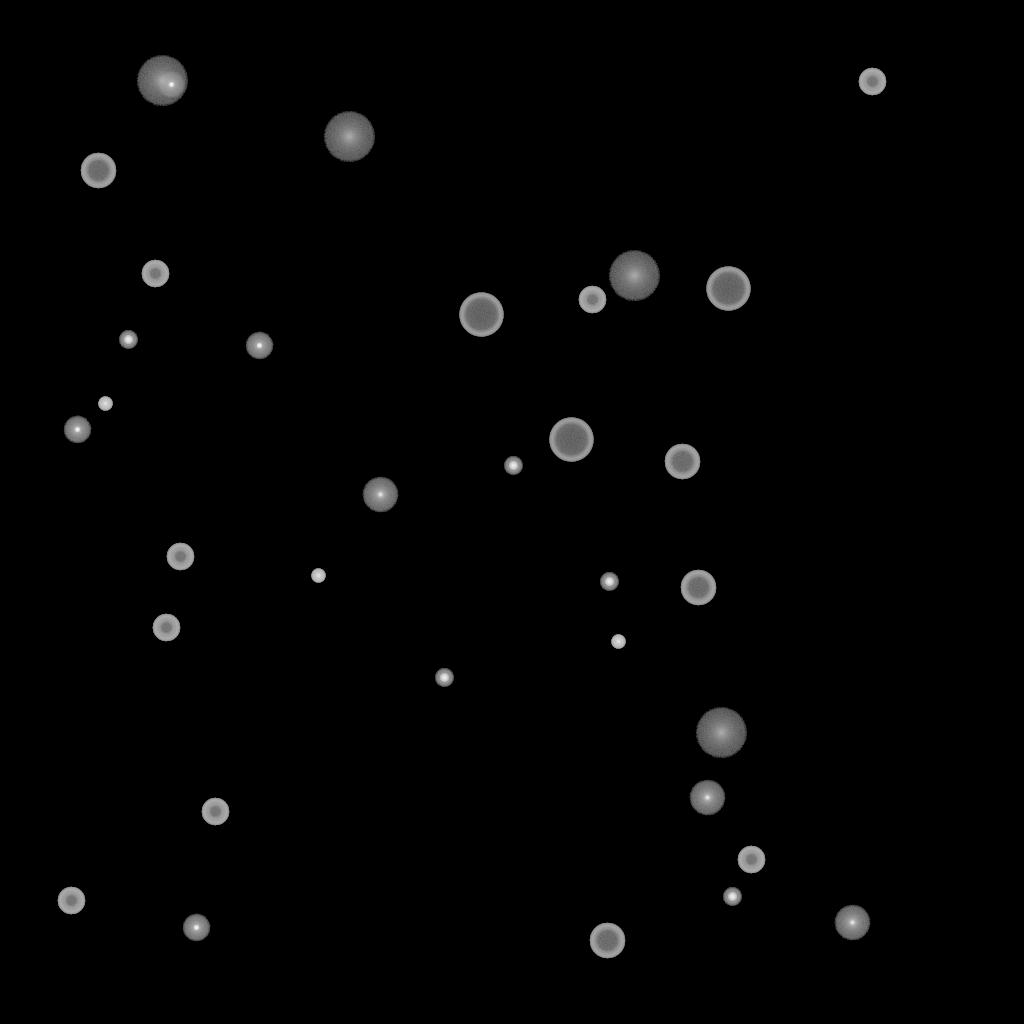depth:-10: (182, 914, 210, 942), (157, 71, 185, 99), (245, 332, 273, 360), (63, 416, 91, 444)
depth:-20: (600, 573, 618, 591), (119, 331, 137, 349), (723, 888, 741, 906), (435, 669, 453, 687), (504, 457, 522, 475)
depth:-30: (98, 397, 112, 411), (311, 569, 325, 583), (611, 635, 625, 649)
depth:-50: (858, 68, 886, 96), (201, 798, 229, 826), (578, 286, 606, 314), (166, 543, 194, 571), (141, 260, 169, 288), (57, 887, 85, 915), (152, 614, 180, 642), (737, 846, 765, 874)
depth:-60: (589, 923, 625, 959), (664, 444, 700, 480), (680, 570, 716, 606), (80, 153, 116, 189)
depth:-70: (549, 418, 593, 462), (459, 293, 503, 337), (706, 267, 750, 311)
depth:0: (689, 780, 725, 816), (834, 905, 870, 941), (362, 477, 398, 513)
depth:20: (695, 708, 747, 758), (608, 251, 660, 301), (323, 112, 375, 162), (136, 56, 188, 106)
